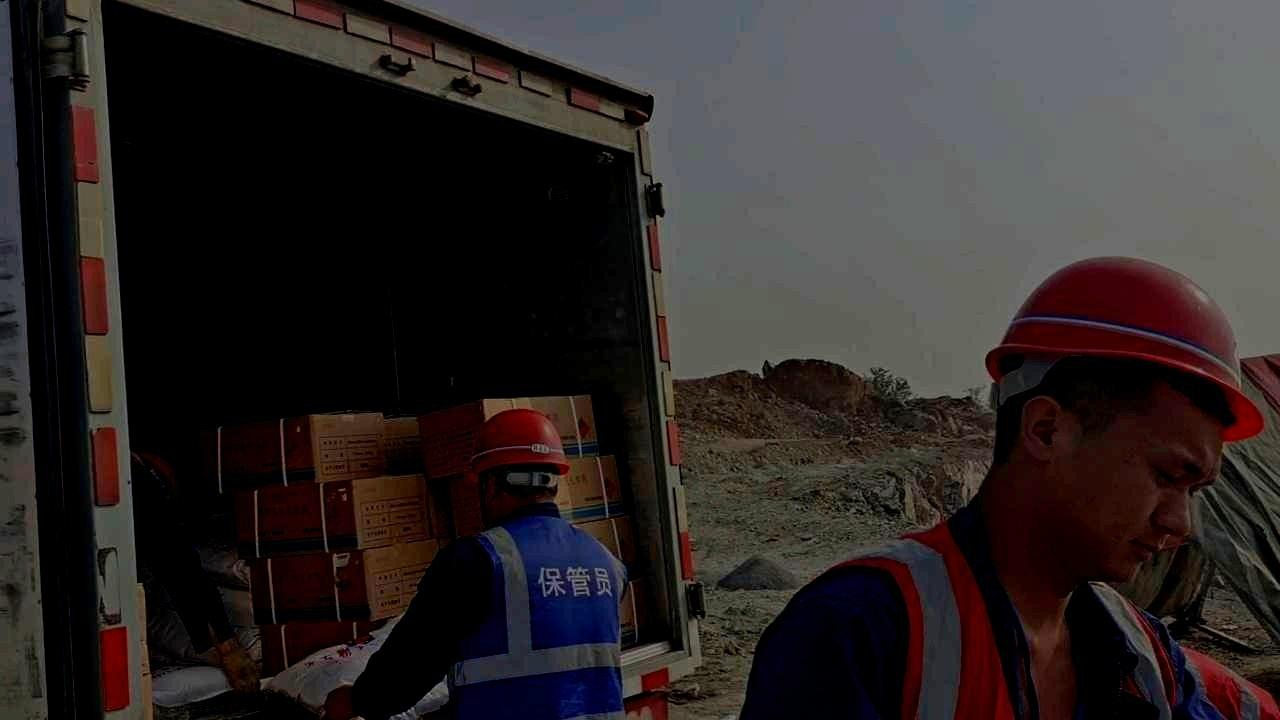helmet: (984, 255, 1268, 587), (463, 407, 572, 525)
